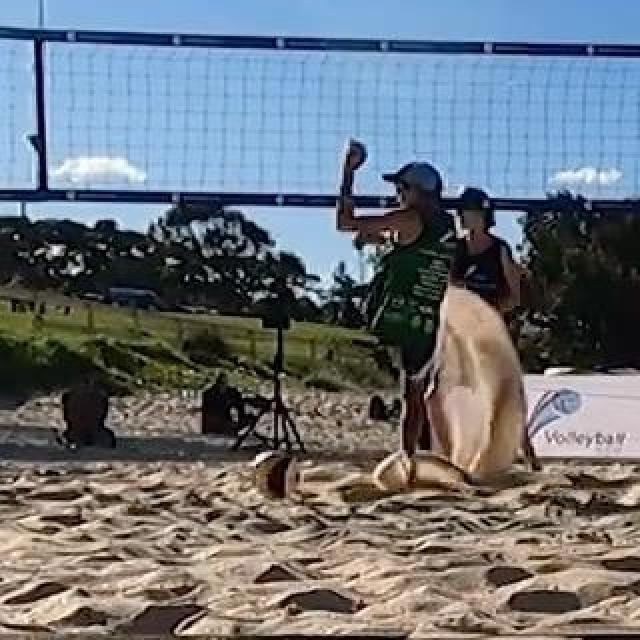volleyball: (250, 451, 302, 499)
